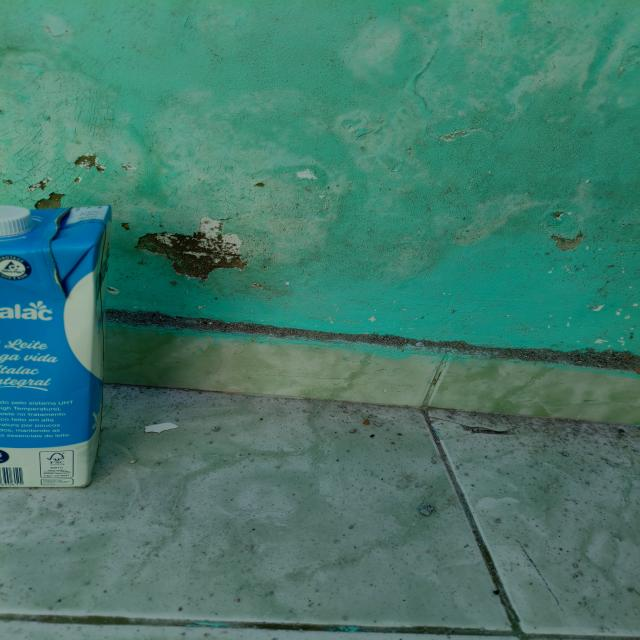Caixa de Leite: (0, 203, 118, 490)
